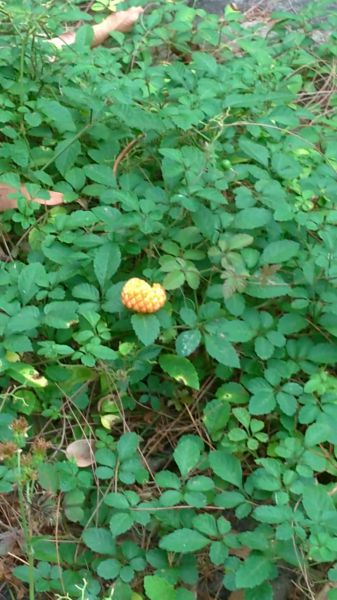eggs: (120, 273, 167, 314)
